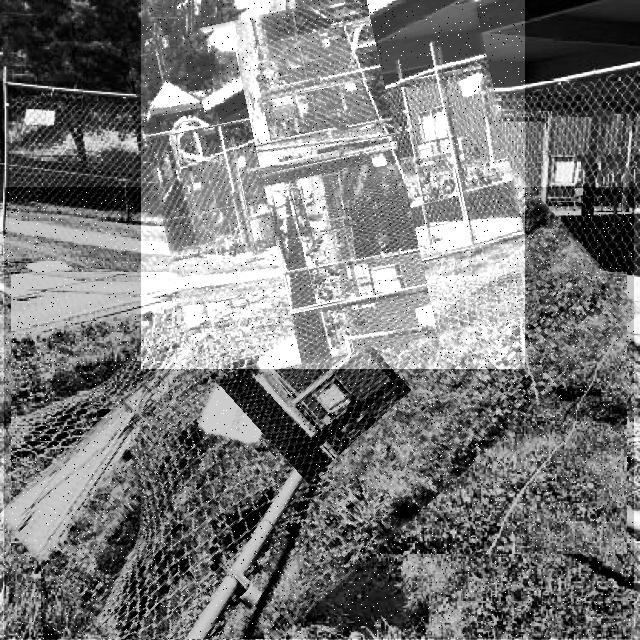anomaly-fence: (4, 187, 634, 639)
fences: (141, 0, 525, 369)
